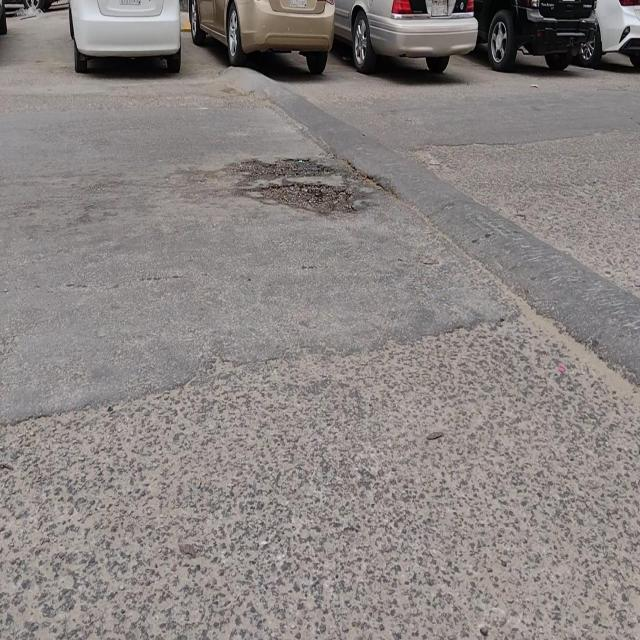Pothole: (250, 153, 352, 219)
